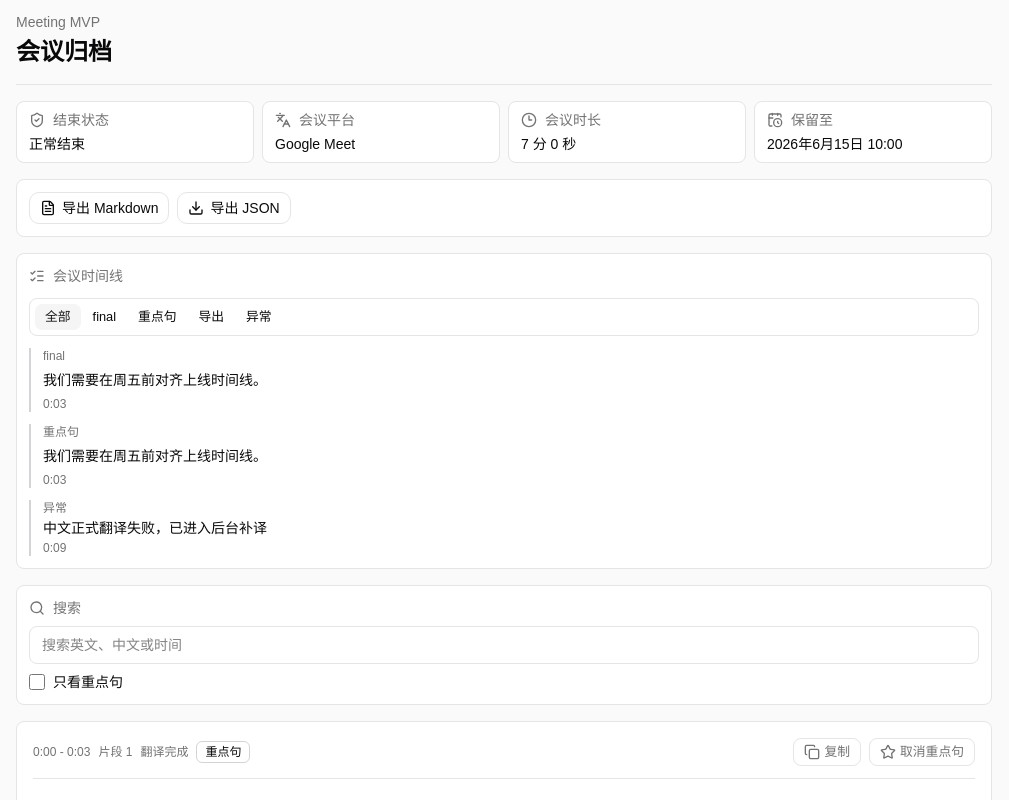
Test: ArchivePage › copies a segment with time, English, and Chinese text, then records copy metadata
This screenshot has width=1009, height=800.
Click the button with aria-label "复制片段 1" at (827, 752), box [793,738,861,766]
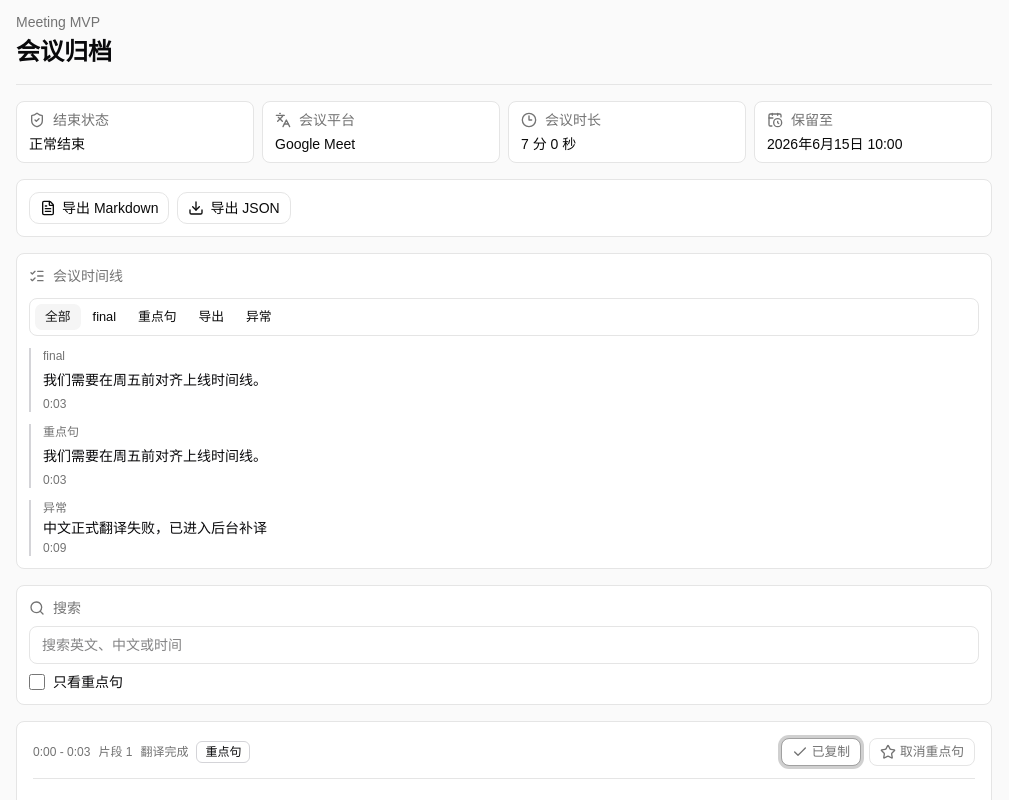
Expected: the button "已复制" is shown, [781,738,861,766]
